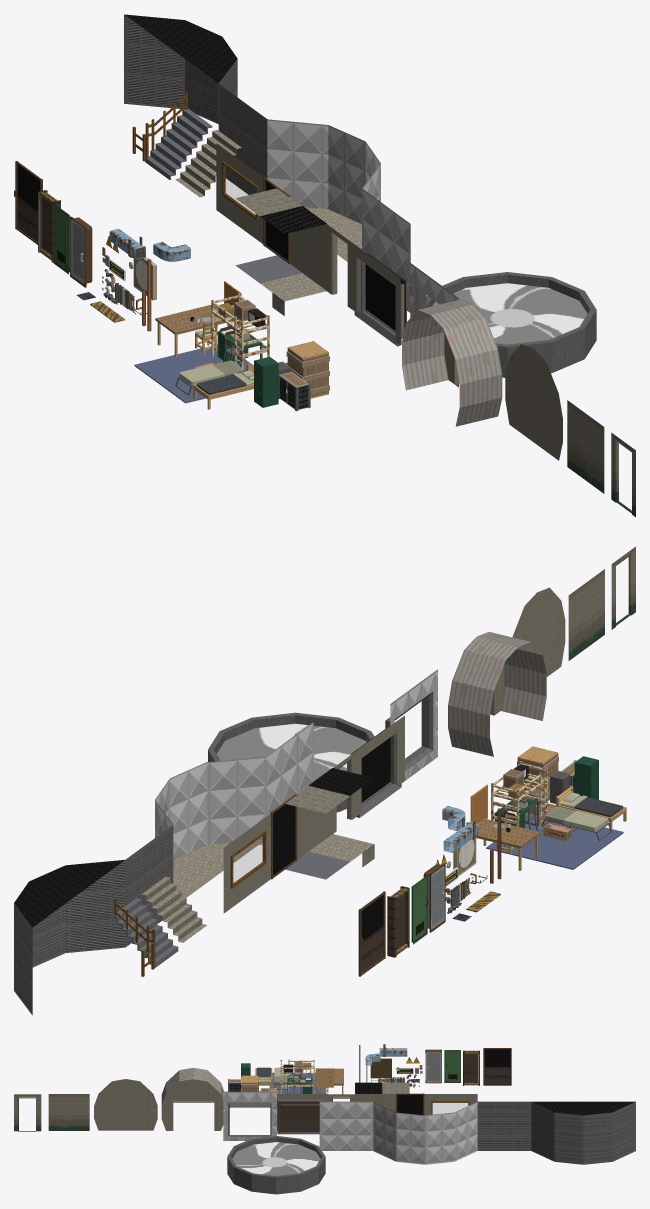
Rendered from bunker_setPanted.glb.
The picture shows the model from 3 angles, top to bottom: view 1: azimuth 30°, elevation 25°; view 2: azimuth 150°, elevation 25°; view 3: azimuth 270°, elevation 25°; orthographic projection. The views are drawn at different scales.
Visible parts, largest first — view 1: vent wall, Metal wall round, vent wall B, fan blade, Cement wall round back, big fan, vent roof, vent wall flat.001, vent wall flat B, window, steaps2, rug (+24 smaller); view 2: vent wall, Metal wall round, vent wall B, fan blade, window, vent roof, vent wall flat.001, Cement wall round back, rug, vent wall flat B, vent Door, big fan (+24 smaller); view 3: vent wall B, vent wall, Cement wall round back, vent wall flat B, vent wall flat.001, big fan, fan blade, Cement wall.003, vent Door, roller door gate, chainlink door, vent roof (+20 smaller).
Part boxes in pixels (bbox=[...]): vent wall: bbox=[267, 119, 380, 223]; Metal wall round: bbox=[402, 299, 502, 426]; vent wall B: bbox=[124, 14, 237, 130]; fan blade: bbox=[432, 283, 587, 344]; Cement wall round back: bbox=[505, 344, 562, 460]; big fan: bbox=[426, 272, 596, 377]; vent roof: bbox=[124, 14, 237, 83]; vent wall flat.001: bbox=[362, 188, 410, 312]; vent wall flat B: bbox=[219, 84, 267, 194]; window: bbox=[216, 143, 263, 243]; steaps2: bbox=[145, 108, 212, 179]; rug: bbox=[134, 344, 253, 403]; vent wall: bbox=[155, 756, 266, 859]; Metal wall round: bbox=[448, 631, 546, 756]; vent wall B: bbox=[14, 860, 125, 1015]; fan blade: bbox=[217, 723, 366, 781]; window: bbox=[223, 813, 270, 913]; vent roof: bbox=[14, 860, 124, 927]; vent wall flat.001: bbox=[266, 722, 313, 816]; Cement wall round back: bbox=[512, 587, 565, 676]; rug: bbox=[486, 813, 623, 869]; vent wall flat B: bbox=[125, 825, 173, 946]; vent Door: bbox=[385, 669, 437, 780]; big fan: bbox=[208, 712, 374, 812]; vent wall B: bbox=[531, 1102, 635, 1164]; vent wall: bbox=[373, 1102, 477, 1164]; Cement wall round back: bbox=[94, 1079, 157, 1130]; vent wall flat B: bbox=[477, 1101, 531, 1150]; vent wall flat.001: bbox=[319, 1101, 373, 1150]; big fan: bbox=[227, 1136, 325, 1194]; fan blade: bbox=[232, 1142, 320, 1175]; Cement wall.003: bbox=[161, 1079, 223, 1130]; vent Door: bbox=[223, 1091, 276, 1140]; roller door gate: bbox=[279, 1102, 319, 1133]; chainlink door: bbox=[483, 1048, 511, 1085]; vent roof: bbox=[532, 1101, 635, 1115].
Bounding box in the file's own units: 37.96 × 10.56 × 91.35.
39 materials, 33 textured.
